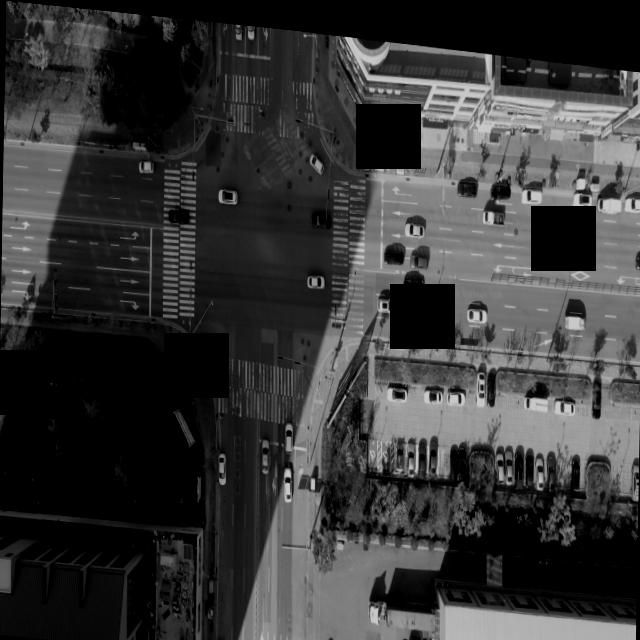car: (170, 201, 192, 221), (591, 366, 602, 405), (218, 183, 239, 203), (457, 433, 467, 474), (387, 377, 408, 396), (546, 441, 556, 479), (522, 176, 542, 194), (555, 387, 575, 405), (570, 445, 581, 477), (309, 146, 325, 167), (534, 444, 544, 477), (477, 360, 486, 396), (417, 432, 426, 468), (543, 229, 563, 245), (466, 299, 486, 315), (486, 367, 496, 399), (428, 433, 437, 468), (408, 434, 417, 469), (312, 205, 330, 222), (572, 180, 590, 197), (450, 437, 459, 471), (491, 174, 510, 190), (503, 439, 512, 472), (217, 447, 226, 480), (447, 381, 464, 398), (408, 213, 426, 229), (516, 442, 524, 478), (385, 242, 404, 257), (262, 433, 270, 468), (525, 441, 533, 476), (632, 451, 639, 490), (624, 183, 640, 200), (459, 173, 477, 188), (424, 381, 442, 396), (284, 463, 292, 495), (308, 268, 324, 284), (406, 271, 424, 285), (496, 440, 504, 471), (379, 291, 394, 307), (396, 433, 404, 460), (412, 246, 428, 259), (285, 417, 292, 446), (140, 156, 154, 170), (247, 20, 255, 36), (234, 19, 242, 35), (634, 240, 640, 255), (214, 636, 222, 640)
large_truck: (368, 592, 438, 625)
small_truck: (523, 385, 548, 403), (481, 199, 505, 217), (597, 184, 620, 202), (564, 302, 585, 319)
